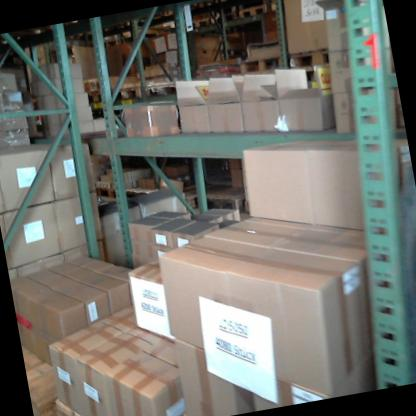pallet: (286, 37, 368, 90), (160, 172, 225, 222), (52, 382, 145, 416), (71, 10, 151, 45), (198, 175, 254, 223), (134, 75, 199, 110), (229, 49, 290, 85), (1, 25, 70, 56), (84, 77, 144, 107), (230, 0, 275, 26), (94, 178, 124, 208), (182, 15, 214, 33), (0, 34, 19, 63)
